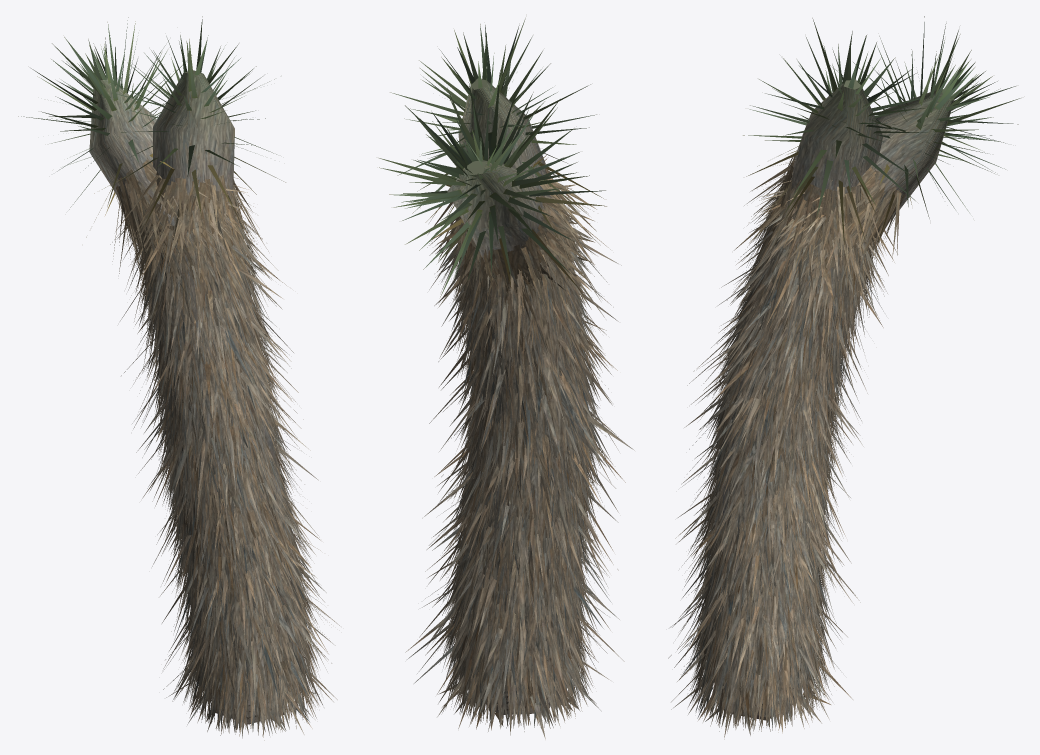
Rendered from joshua_a_lod1.glb.
3 renders of one model, left to right at view 1: azimuth 30°, elevation 25°; view 2: azimuth 150°, elevation 25°; view 3: azimuth 270°, elevation 25°, orthographic. The views are drawn at different scales.
Visible parts, largest first — view 1: joshua_a_lod1; view 2: joshua_a_lod1; view 3: joshua_a_lod1.
Part boxes in pixels (box(x1,y1,x2,y2)): joshua_a_lod1: box(18, 16, 339, 740); joshua_a_lod1: box(379, 18, 634, 739); joshua_a_lod1: box(668, 16, 1020, 739).
Bounding box in the file's own units: 1.05 × 2.99 × 1.46.
Materials: 3 (3 with a texture image).
